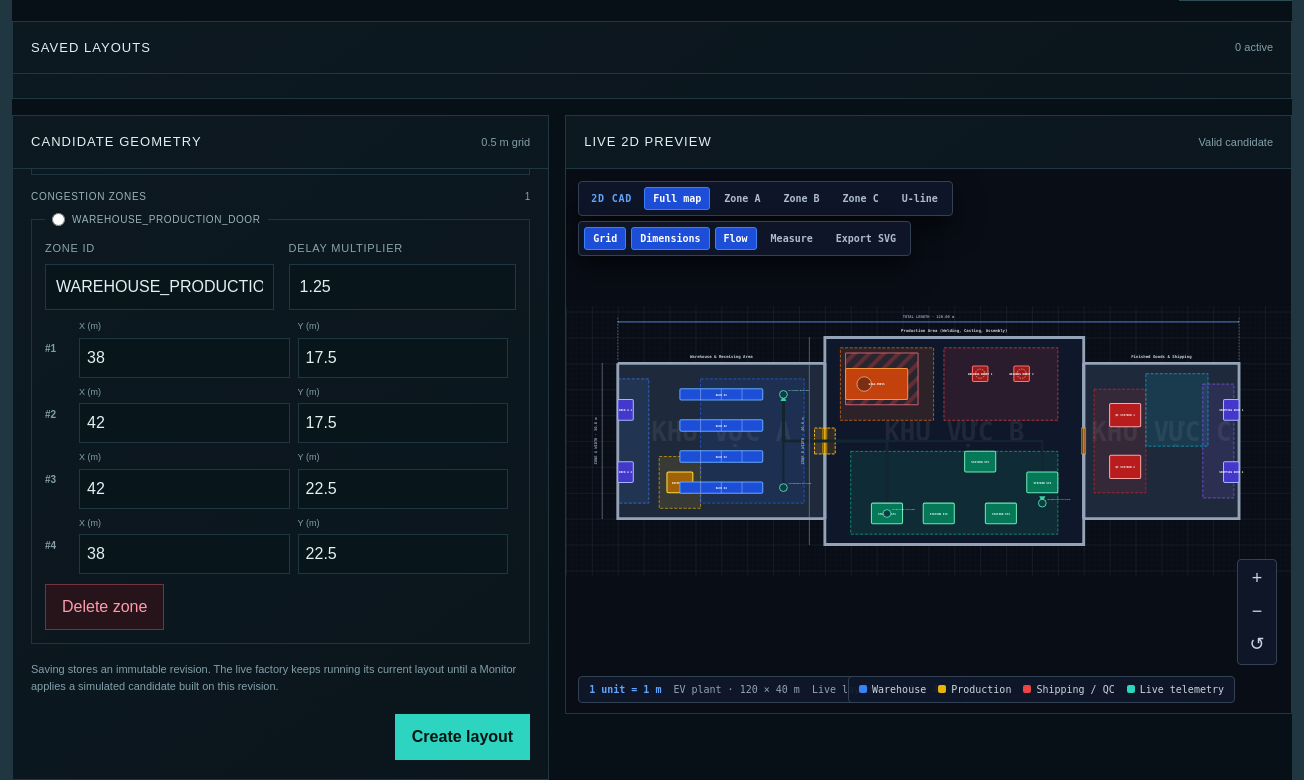
Scenario: LayoutsPage › reports where the saved revision sits in candidate review
(page scrolled)
Expected: the text "is represented by candidate" is not shown
Click the button "Create layout" at (462,737), box [395,714,530,760]
(page scrolled)
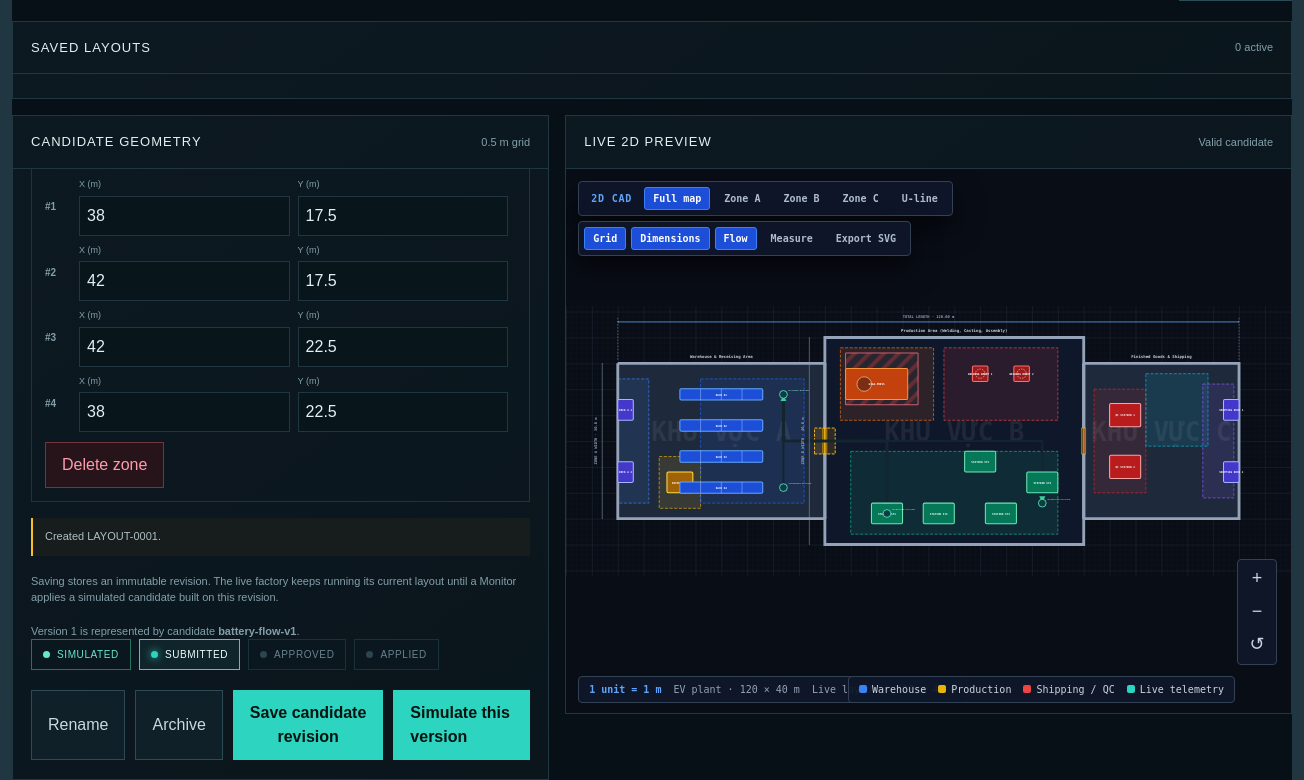
Expected: the text "battery-flow-v1" is shown, [218,625,296,637]
Expected: the list named "Candidate review progress" is shown, [31,639,439,670]
